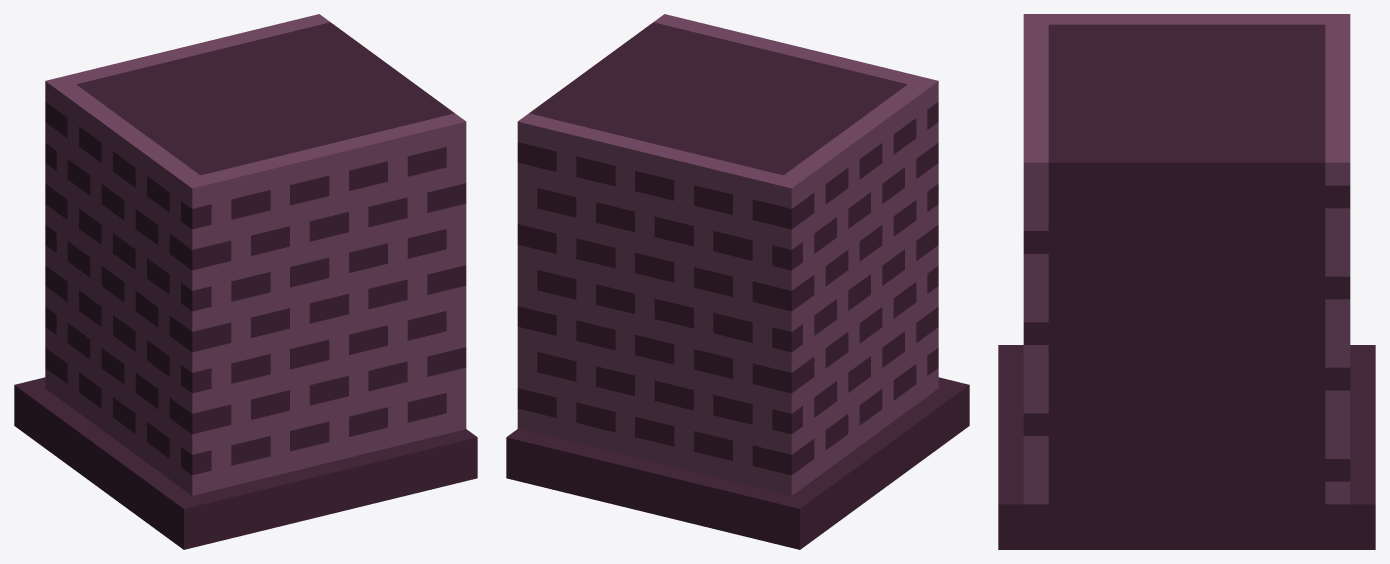
The model's file is dungeon_c_b_inner_wall_ending_flipped.obj.
3 views of the same model, side by side, from view 1: azimuth 30°, elevation 25°; view 2: azimuth 150°, elevation 25°; view 3: azimuth 270°, elevation 25° (orthographic). The views are drawn at different scales.
Bounding box in the file's own units: 1.5 × 1.7 × 1.5.
1 material, 1 textured.
